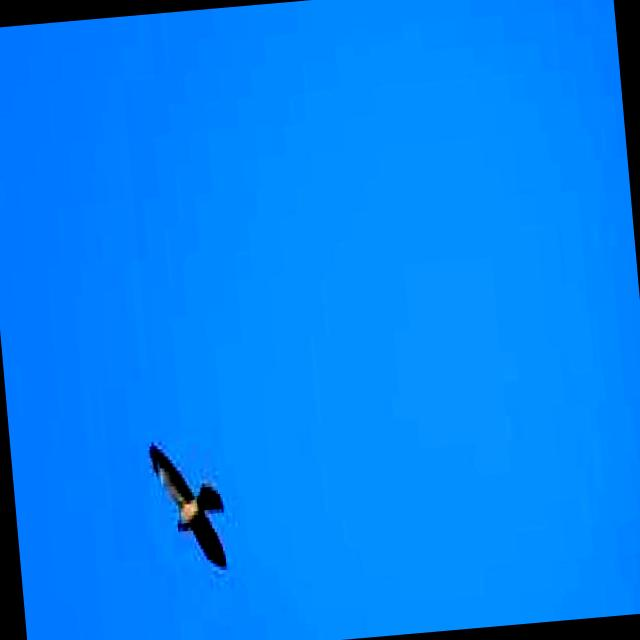bird: (143, 429, 241, 584)
